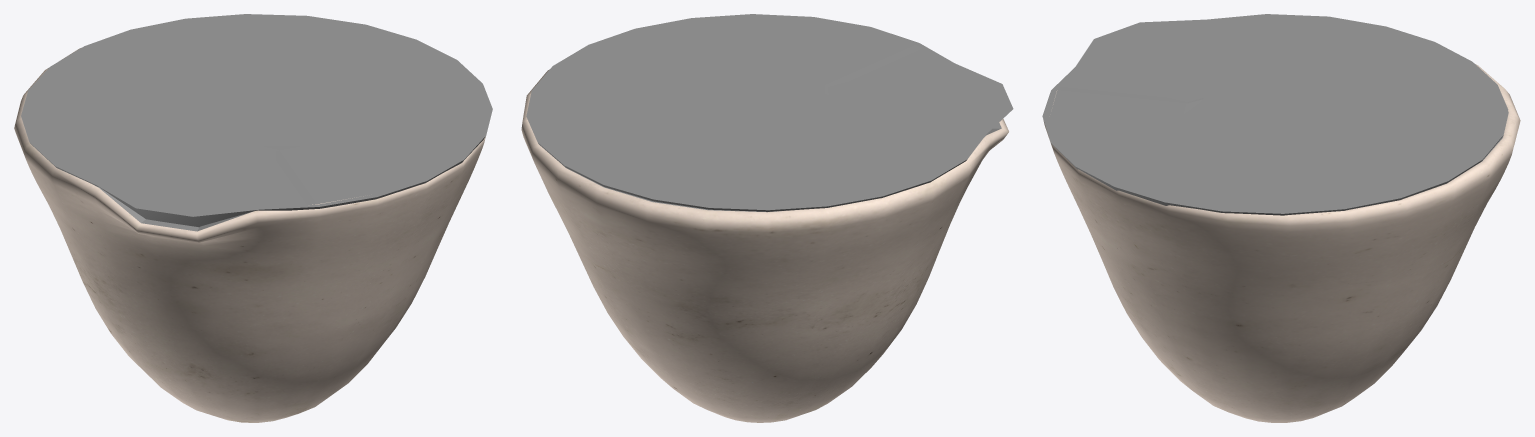
The picture shows the model from 3 angles, left to right: view 1: azimuth 30°, elevation 25°; view 2: azimuth 150°, elevation 25°; view 3: azimuth 270°, elevation 25°; orthographic projection.
Visible parts, largest first — view 1: Object001, 301, Inner; view 2: Object001, 301, Inner; view 3: Object001, 301, Inner.
Boxes of the visible parts, x1=… form: Object001: x1=21, y1=14, x2=492, y2=227; 301: x1=14, y1=48, x2=485, y2=422; Inner: x1=92, y1=146, x2=374, y2=231; Object001: x1=526, y1=14, x2=1013, y2=211; 301: x1=521, y1=69, x2=1008, y2=422; Inner: x1=563, y1=29, x2=1001, y2=212; Object001: x1=1042, y1=14, x2=1508, y2=215; 301: x1=1043, y1=64, x2=1520, y2=422; Inner: x1=1050, y1=86, x2=1508, y2=161.
Bounding box in the file's own units: 139 × 96.47 × 139.
Materials: 2 (1 with a texture image).
